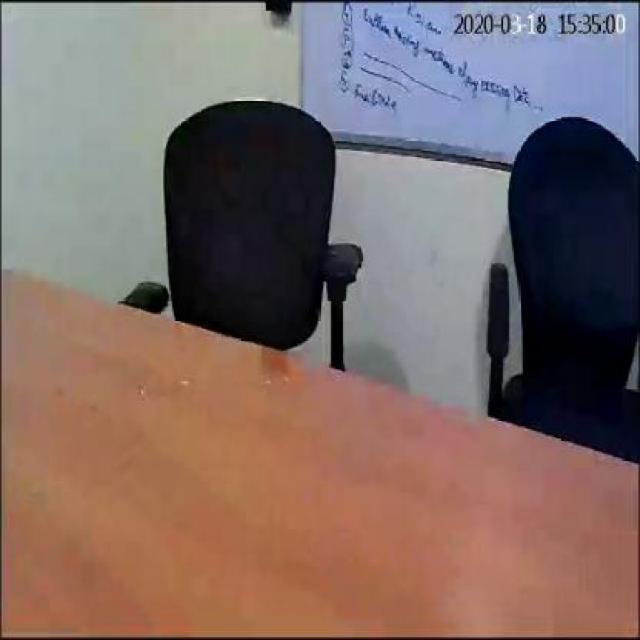spill: (149, 334, 306, 394)
